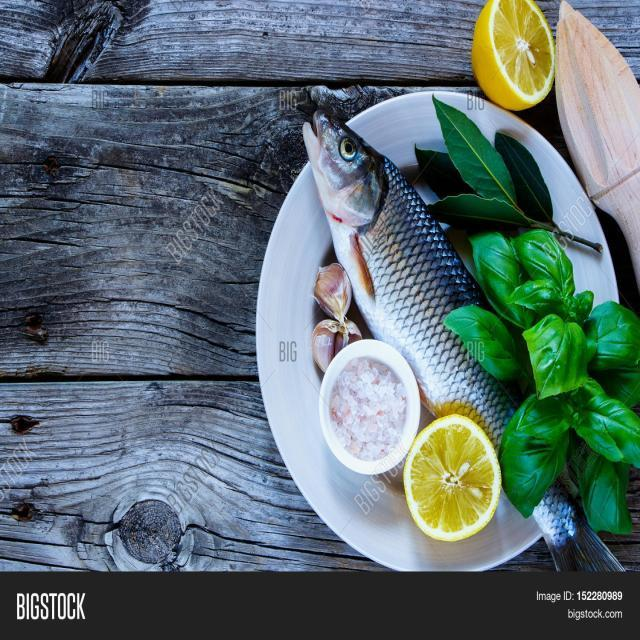fish: (302, 109, 519, 452)
